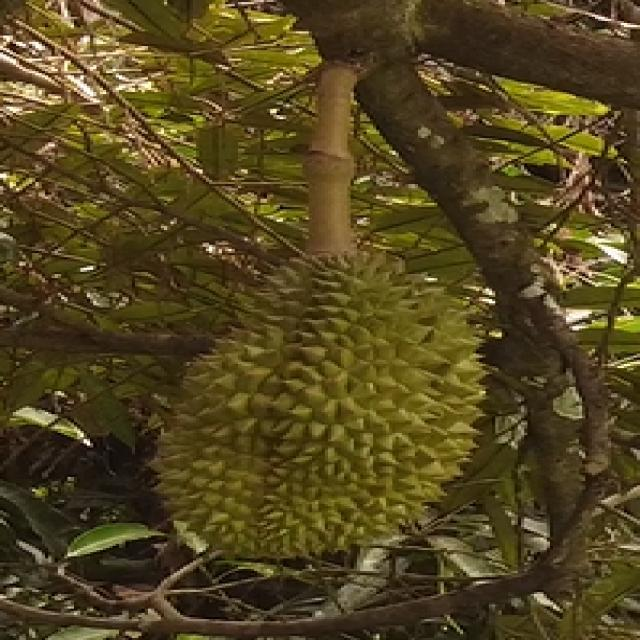immature: (151, 243, 487, 563)
